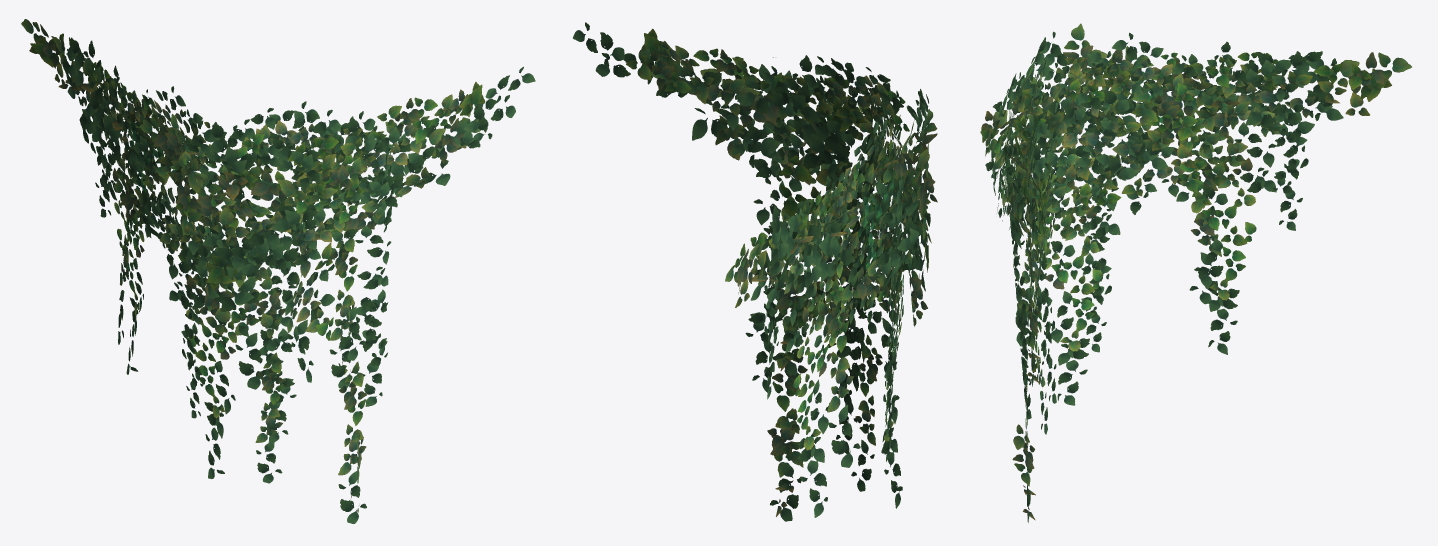
Rendered from SM_Ivy_Side_E_FlowersColored.fbx.
The picture shows the model from 3 angles, left to right: view 1: azimuth 30°, elevation 25°; view 2: azimuth 150°, elevation 25°; view 3: azimuth 270°, elevation 25°; orthographic projection. The views are drawn at different scales.
Parts seen in each view (by area): view 1: SM_Ivy_Side_E_FlowersColored_LOD1; view 2: SM_Ivy_Side_E_FlowersColored_LOD1; view 3: SM_Ivy_Side_E_FlowersColored_LOD1.
Part boxes in pixels (x1,y1,x2,y2): SM_Ivy_Side_E_FlowersColored_LOD1: (21, 19, 535, 523); SM_Ivy_Side_E_FlowersColored_LOD1: (573, 22, 937, 521); SM_Ivy_Side_E_FlowersColored_LOD1: (980, 23, 1411, 522).
Bounding box in the file's own units: 424 × 517 × 471.
